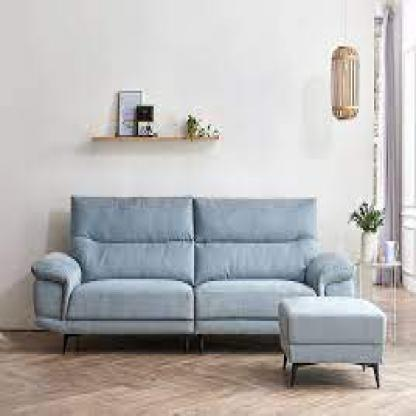sofa: (31, 195, 356, 356)
